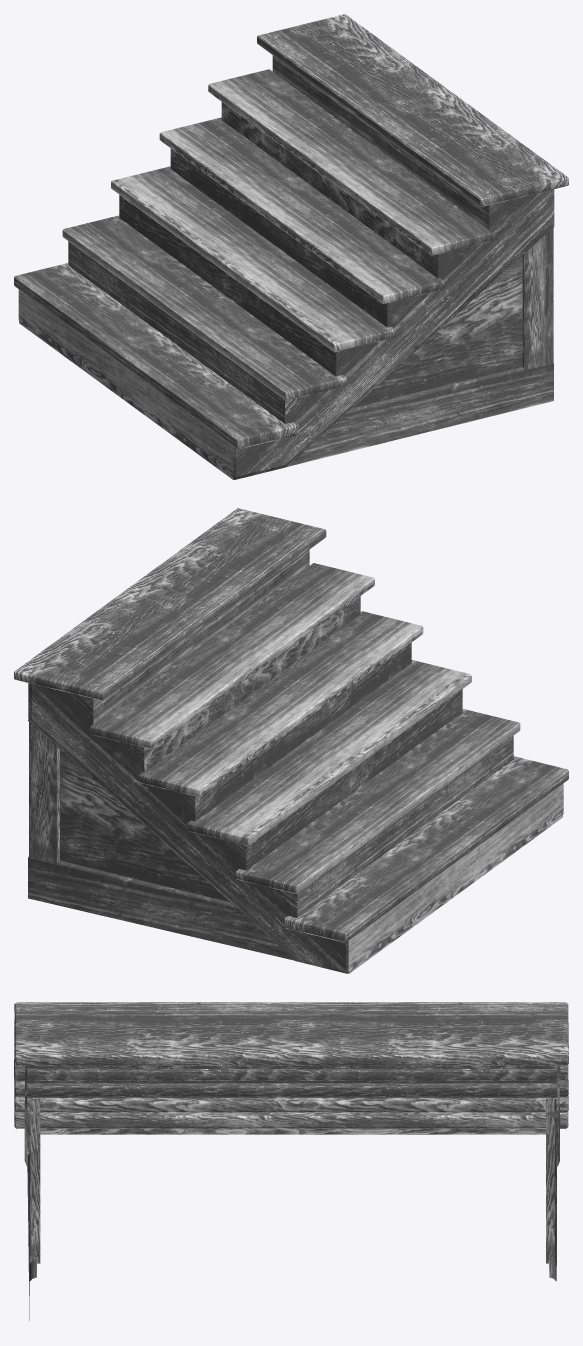
The model's file is SM_Terrace_Stairs_A3@VertexColors_0.fbx.
3 renders of one model, top to bottom at view 1: azimuth 30°, elevation 25°; view 2: azimuth 150°, elevation 25°; view 3: azimuth 270°, elevation 25°, orthographic. The views are drawn at different scales.
Visible parts, largest first — view 1: SM_Terrace_Stairs_A3; view 2: SM_Terrace_Stairs_A3; view 3: SM_Terrace_Stairs_A3.
Boxes of the visible parts, <box> form: SM_Terrace_Stairs_A3: <box>14,14,568,479</box>; SM_Terrace_Stairs_A3: <box>14,508,568,973</box>; SM_Terrace_Stairs_A3: <box>14,1002,568,1320</box>.
Size of the model in its own units: 132 by 155 by 86.94.
3 materials, 3 textured.
